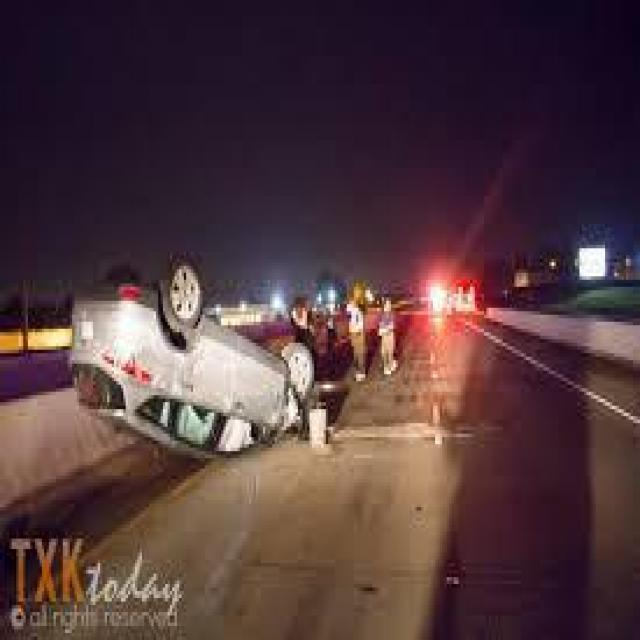severe: (62, 262, 324, 465)
